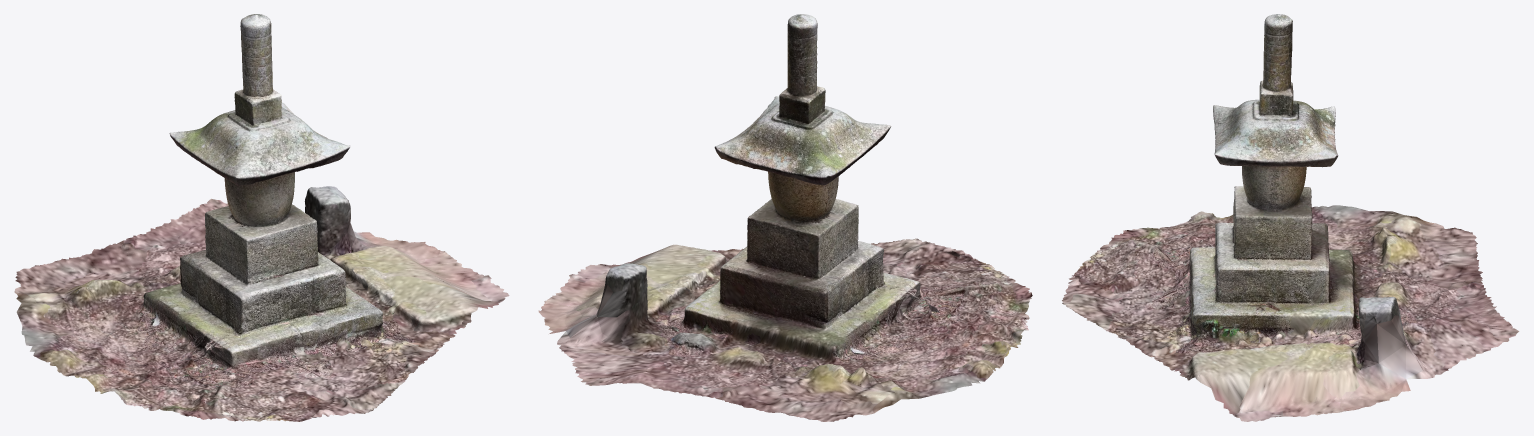
Rendered from sculpture-1-temple-kurama.glb.
3 renders of one model, left to right at view 1: azimuth 30°, elevation 25°; view 2: azimuth 150°, elevation 25°; view 3: azimuth 270°, elevation 25°, orthographic. The views are drawn at different scales.
Visible parts, largest first — view 1: mesh; view 2: mesh; view 3: mesh.
Part boxes in pixels (x1,y1,x2,y2): mesh: [14, 14, 509, 421]; mesh: [538, 14, 1032, 421]; mesh: [1062, 14, 1519, 421].
Bounding box in the file's own units: 2.27 × 1.6 × 2.21.
1 material, 1 textured.
